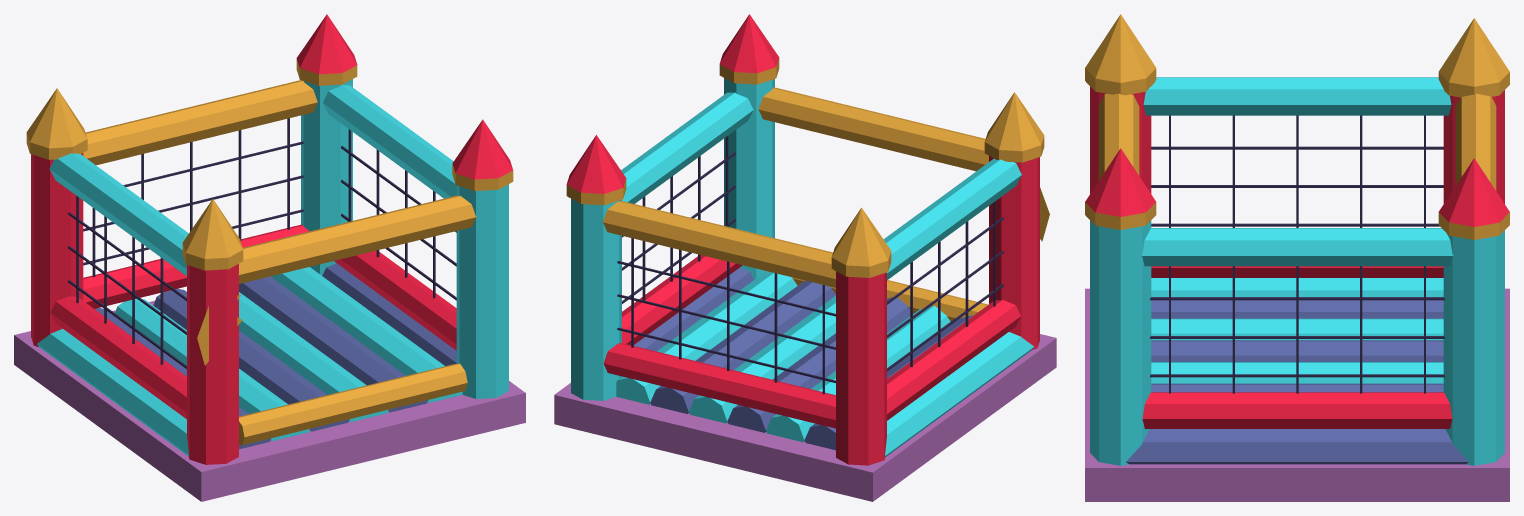
The model's file is BounceHouse.obj.
3 renders of one model, left to right at view 1: azimuth 30°, elevation 25°; view 2: azimuth 150°, elevation 25°; view 3: azimuth 270°, elevation 25°, orthographic. The views are drawn at different scales.
Parts seen in each view (by area): view 1: BounceHouse; view 2: BounceHouse; view 3: BounceHouse.
Part boxes in pixels (box(x1,y1,x2,y2)): BounceHouse: box(14, 14, 525, 501); BounceHouse: box(554, 14, 1056, 501); BounceHouse: box(1085, 14, 1509, 501).
Size of the model in its own units: 5 by 4.4 by 5.
Materials: 1 (1 with a texture image).
